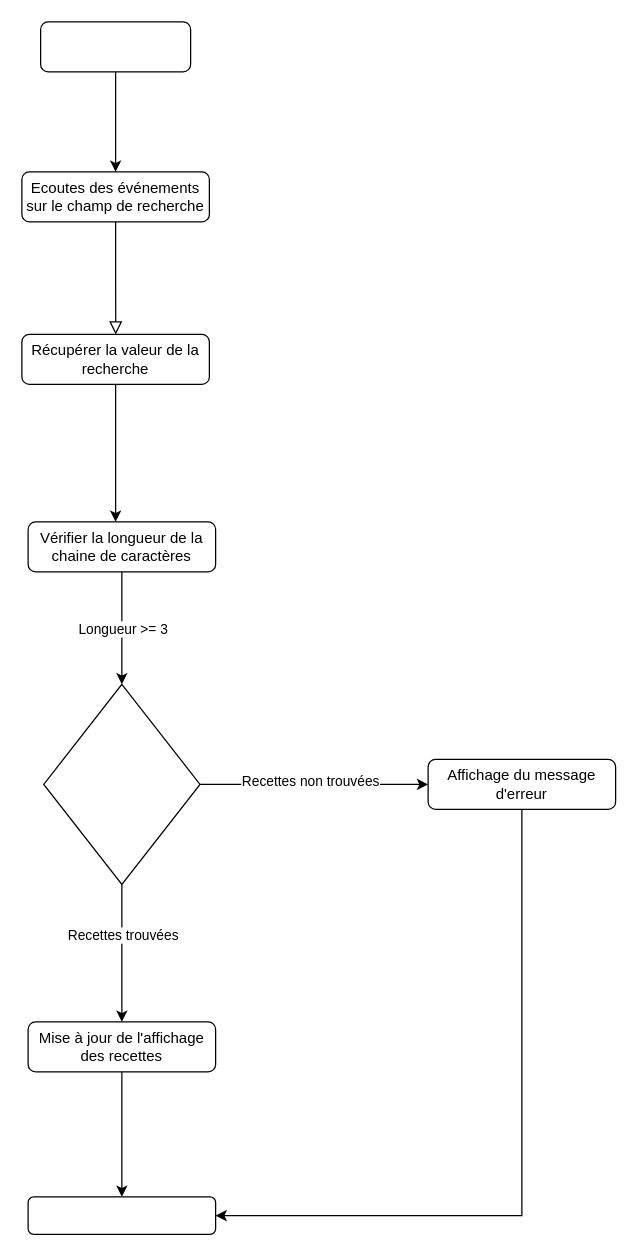
Some shapes in this 638 by 1256 pixel diagram are drawn without their labels. The shapes that lost their labels are listed below. From the top down, each one's centre as x and y in pixels, then its label:
pixel 115 46: Début du programme
pixel 121 783: Filtrer les recettes avec la recherche
pixel 121 1215: Fin du programme
